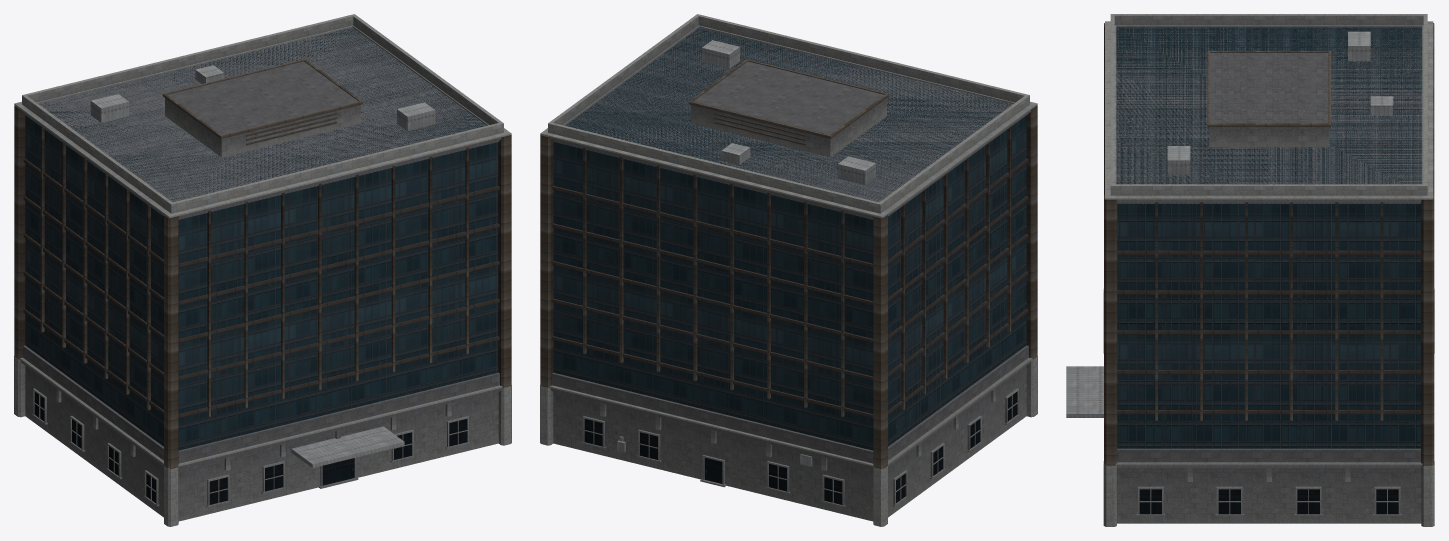
The model's file is bagley-office-block_lod0.gltf.
3 views of the same model, side by side, from view 1: azimuth 30°, elevation 25°; view 2: azimuth 150°, elevation 25°; view 3: azimuth 270°, elevation 25° (orthographic). The views are drawn at different scales.
Parts seen in each view (by area): view 1: bagley-office-block_upper, bagley-office-block__v4_stone_detail, bagley-office-block__v4_metal_detail, bagley-office-block__parapet, bagley-office-block_base, bagley-office-block_fen_07-glass-curtain-blue_1_t, bagley-office-block_fen_06-granite_0, bagley-office-block__canopy, bagley-office-block__hvac_a, bagley-office-block__hvac_b; view 2: bagley-office-block_upper, bagley-office-block__v4_stone_detail, bagley-office-block__v4_metal_detail, bagley-office-block__parapet, bagley-office-block_base, bagley-office-block_fen_07-glass-curtain-blue_1_t, bagley-office-block_fen_06-granite_0, bagley-office-block__hvac_a, bagley-office-block__hvac_b; view 3: bagley-office-block_upper, bagley-office-block__v4_stone_detail, bagley-office-block__parapet, bagley-office-block__v4_metal_detail, bagley-office-block_base, bagley-office-block_fen_07-glass-curtain-blue_1_t, bagley-office-block__canopy, bagley-office-block_fen_06-granite_0, bagley-office-block__hvac_a, bagley-office-block__hvac_b, bagley-office-block__vent.
Part boxes in pixels (x1,y1,x2,y2): bagley-office-block_upper: (25,27,498,450); bagley-office-block__v4_stone_detail: (14,14,511,526); bagley-office-block__v4_metal_detail: (14,59,511,468); bagley-office-block__parapet: (24,27,499,219); bagley-office-block_base: (25,366,498,521); bagley-office-block_fen_07-glass-curtain-blue_1_t: (34,392,467,504); bagley-office-block_fen_06-granite_0: (32,388,470,507); bagley-office-block__canopy: (291,426,404,467); bagley-office-block__hvac_a: (397,102,435,131); bagley-office-block__hvac_b: (90,94,128,122); bagley-office-block_upper: (553,27,1026,450); bagley-office-block__v4_stone_detail: (540,14,1037,526); bagley-office-block__v4_metal_detail: (540,59,1037,468); bagley-office-block__parapet: (552,28,1027,219); bagley-office-block_base: (553,366,1026,521); bagley-office-block_fen_07-glass-curtain-blue_1_t: (584,392,1017,504); bagley-office-block_fen_06-granite_0: (581,388,1019,507); bagley-office-block__hvac_a: (702,40,739,68); bagley-office-block__hvac_b: (838,156,875,185); bagley-office-block_upper: (1116,27,1422,448); bagley-office-block__v4_stone_detail: (1103,14,1434,526); bagley-office-block__parapet: (1116,27,1422,203); bagley-office-block__v4_metal_detail: (1104,23,1434,465); bagley-office-block_base: (1117,468,1421,523); bagley-office-block_fen_07-glass-curtain-blue_1_t: (1139,489,1398,514); bagley-office-block__canopy: (1066,366,1103,417); bagley-office-block_fen_06-granite_0: (1136,486,1401,515); bagley-office-block__hvac_a: (1167,146,1190,175); bagley-office-block__hvac_b: (1348,31,1370,61); bagley-office-block__vent: (1370,96,1393,115).
Size of the model in its own units: 37.36 by 34.3 by 32.68.
